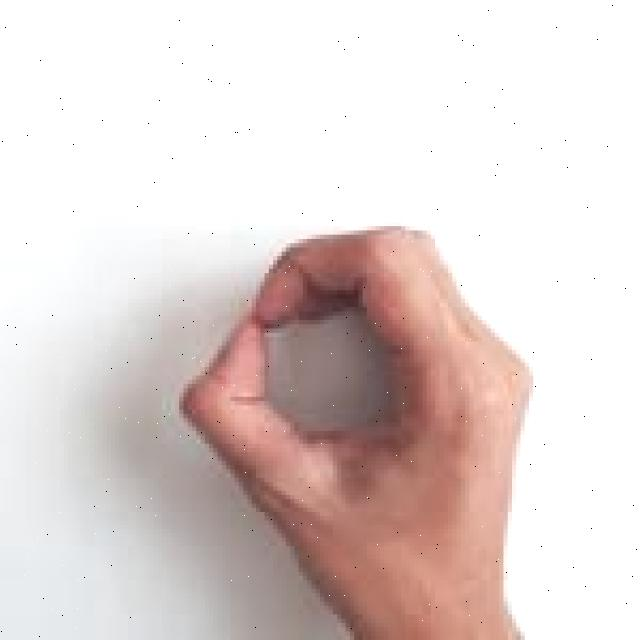O: (178, 215, 546, 640)
